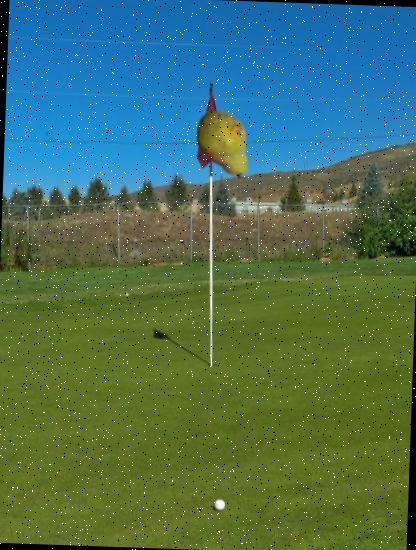Pear: (185, 107, 264, 186)
